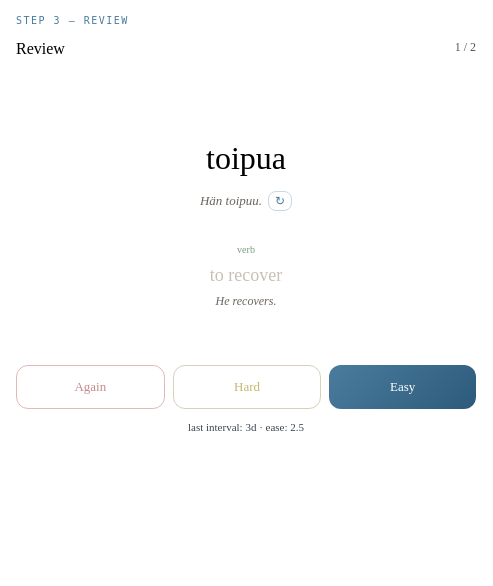
Test: ReviewStage – example suggestions › says so inside the popup when the save is refused, and stays open
This screenshot has width=493, height=586.
Click the button named "suggest a different example".
click(280, 200)  # box [268,190,292,210]
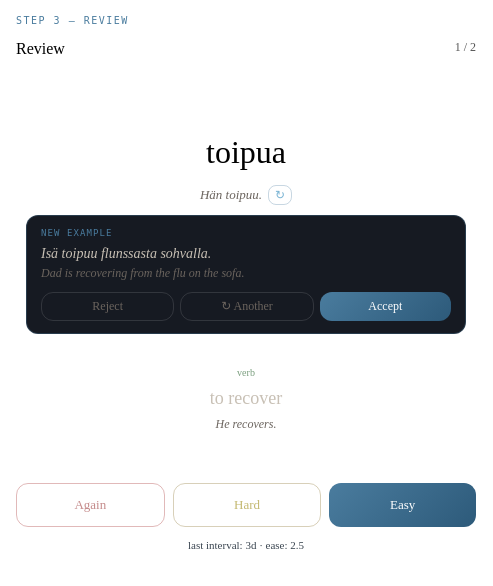
Expected: the text "Isä toipuu flunssasta sohvalla." is shown, [41,246,211,261]
Click the button "Accept".
click(385, 306)  # box [320,292,451,321]
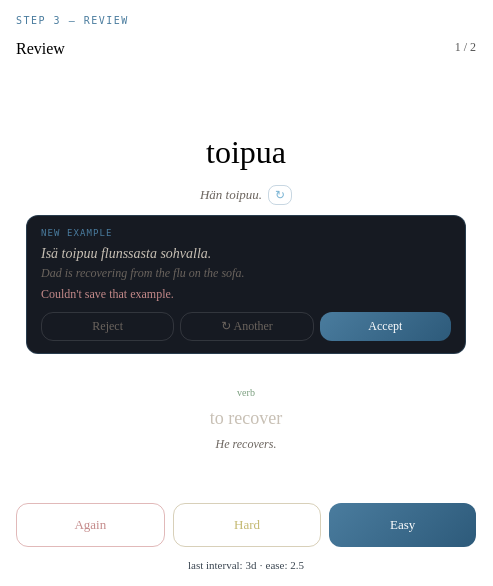
Expected: the text "Isä toipuu flunssasta sohvalla." is shown, [41,246,211,261]
Expected: the message shows "Couldn't save", [41,287,174,301]
